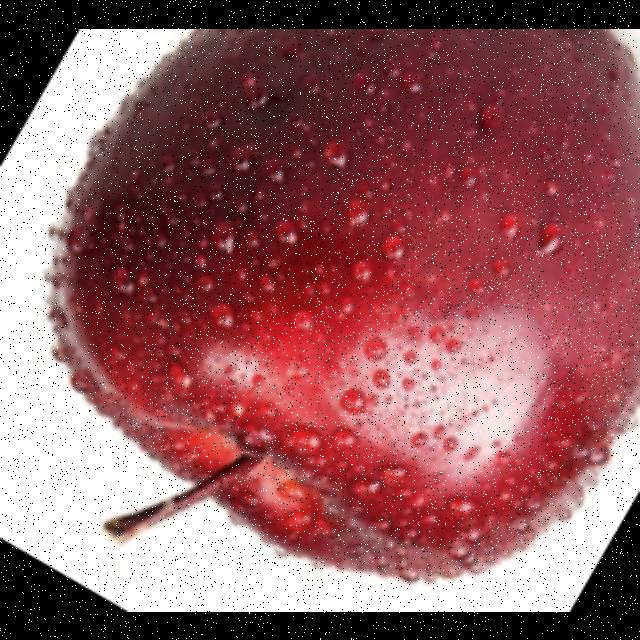Apel Segar: (22, 29, 640, 598)
